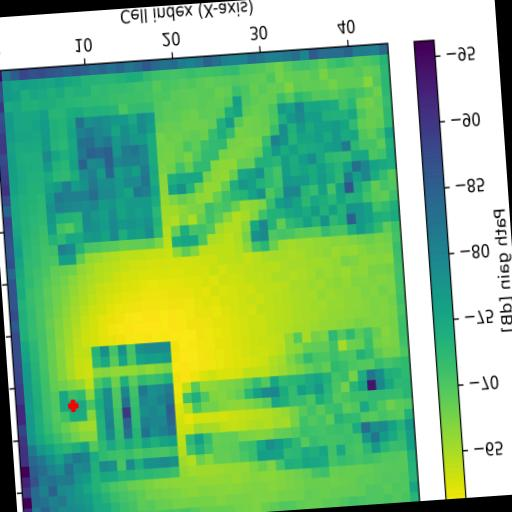Concrete: (284, 327, 390, 468)
Glass: (92, 341, 179, 484)
Metal: (260, 100, 366, 240)
Wood: (76, 112, 163, 242)
